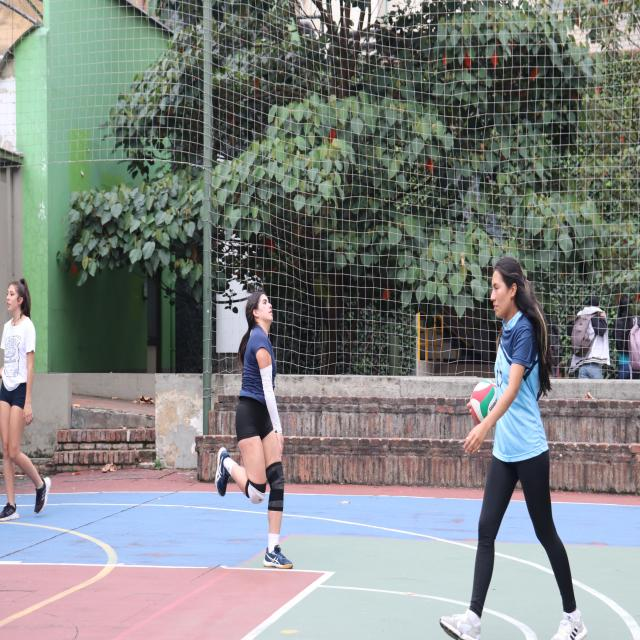volleyball: (470, 380, 498, 425)
